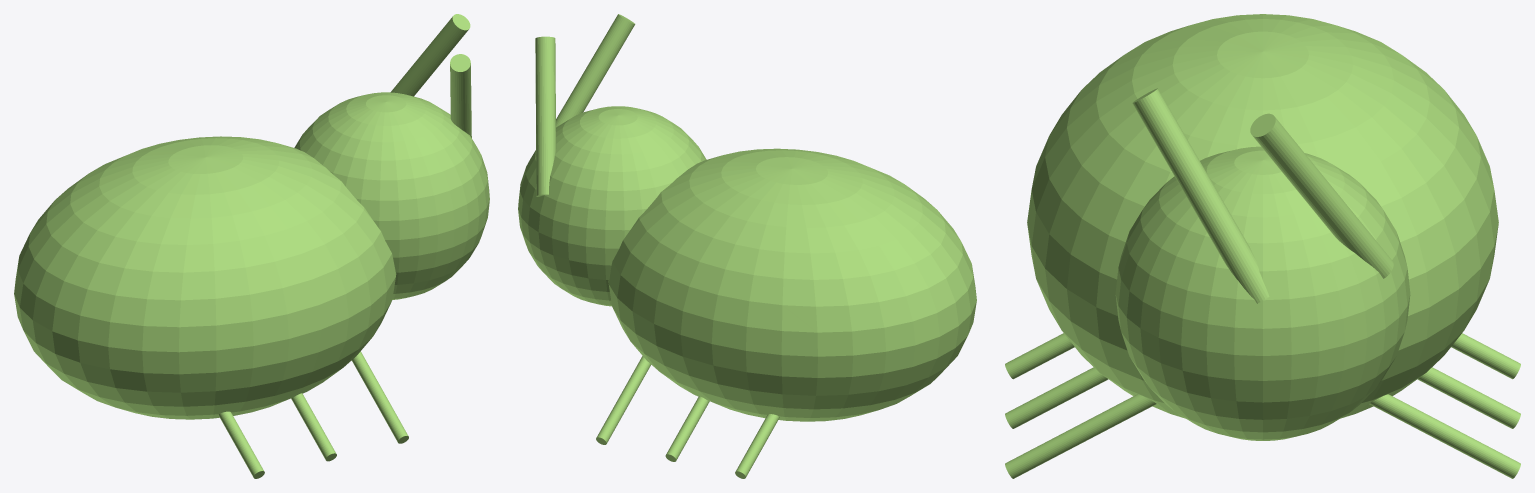
Rendered from aphid.glb.
3 views of the same model, side by side, from view 1: azimuth 30°, elevation 25°; view 2: azimuth 150°, elevation 25°; view 3: azimuth 270°, elevation 25° (orthographic). The views are drawn at different scales.
Visible parts, largest first — view 1: Sphere, Sphere.001, Cylinder.001, Cylinder, Cylinder.006, Cylinder.002, Cylinder.004; view 2: Sphere, Sphere.001, Cylinder.001, Cylinder, Cylinder.007, Cylinder.003, Cylinder.005; view 3: Sphere, Sphere.001, Cylinder, Cylinder.001, Cylinder.006, Cylinder.007, Cylinder.004, Cylinder.005, Cylinder.002, Cylinder.003.
Boxes of the visible parts, <box> form: Sphere: <box>14,136,396,419</box>; Sphere.001: <box>294,92,489,299</box>; Cylinder.001: <box>390,14,470,96</box>; Cylinder: <box>450,54,471,137</box>; Cylinder.006: <box>352,351,408,443</box>; Cylinder.002: <box>218,411,264,478</box>; Cylinder.004: <box>291,393,336,461</box>; Sphere: <box>608,148,976,421</box>; Sphere.001: <box>518,106,706,306</box>; Cylinder.001: <box>535,36,556,196</box>; Cylinder: <box>556,14,635,127</box>; Cylinder.007: <box>596,356,651,444</box>; Cylinder.003: <box>735,414,779,478</box>; Cylinder.005: <box>665,396,709,461</box>; Sphere: <box>1027,14,1498,418</box>; Sphere.001: <box>1115,146,1410,440</box>; Cylinder: <box>1132,88,1269,303</box>; Cylinder.001: <box>1250,113,1393,278</box>; Cylinder.006: <box>1005,394,1156,478</box>; Cylinder.007: <box>1369,394,1520,478</box>; Cylinder.004: <box>1005,367,1108,428</box>; Cylinder.005: <box>1417,367,1520,428</box>; Cylinder.002: <box>1005,333,1074,379</box>; Cylinder.003: <box>1451,333,1520,379</box>.
Bounding box in the file's own units: 0.246 × 0.1731 × 0.175.
